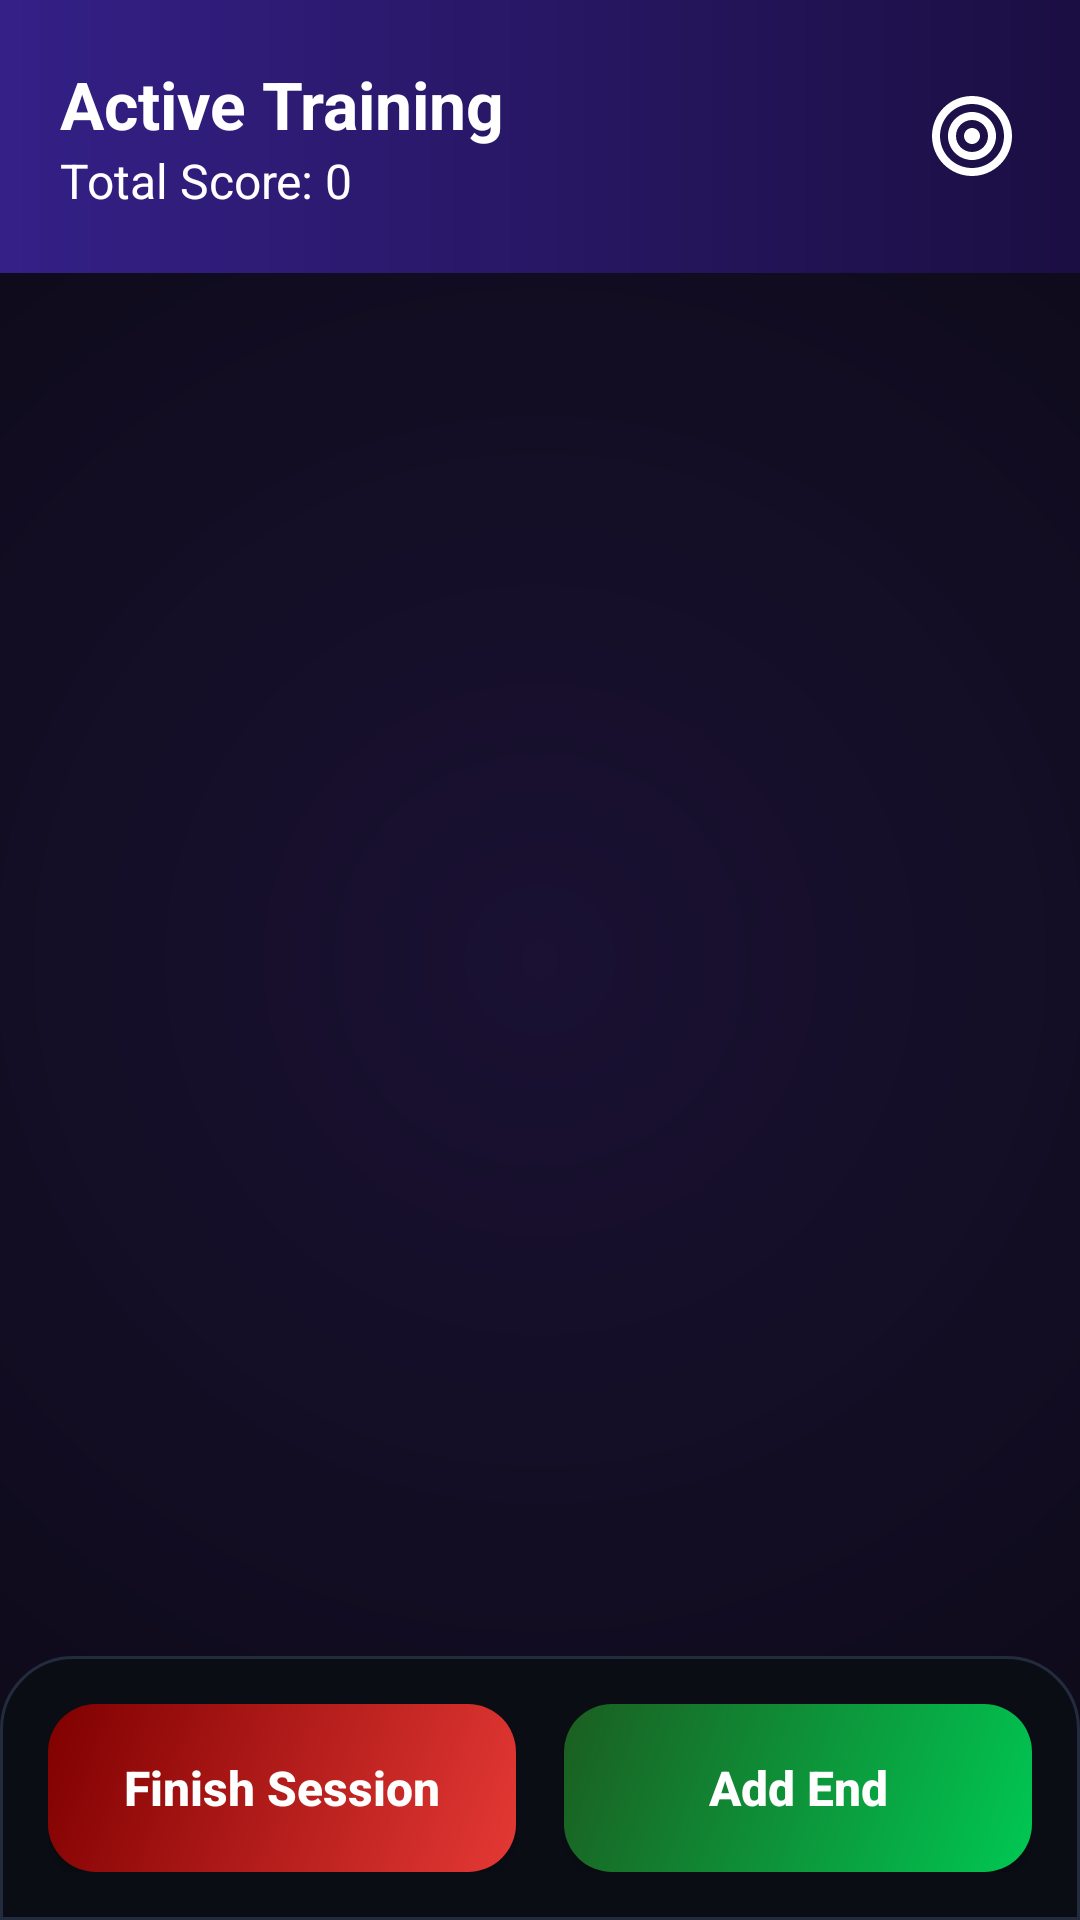

Icons on this 1080*1920 Android screen, each with its box as (x1, y1, x2, y2):
target: (932, 96, 1012, 176)
